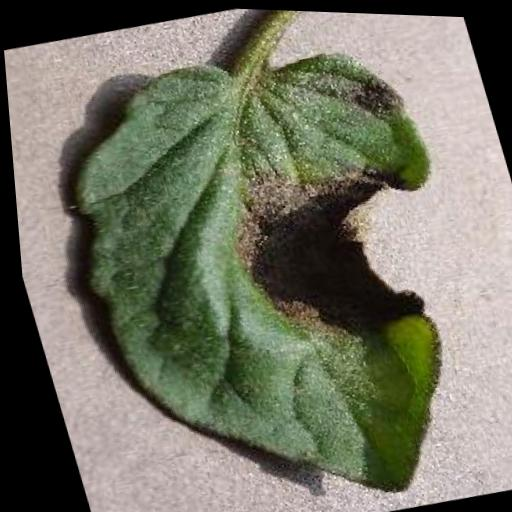Late Blight: (21, 14, 512, 512)
